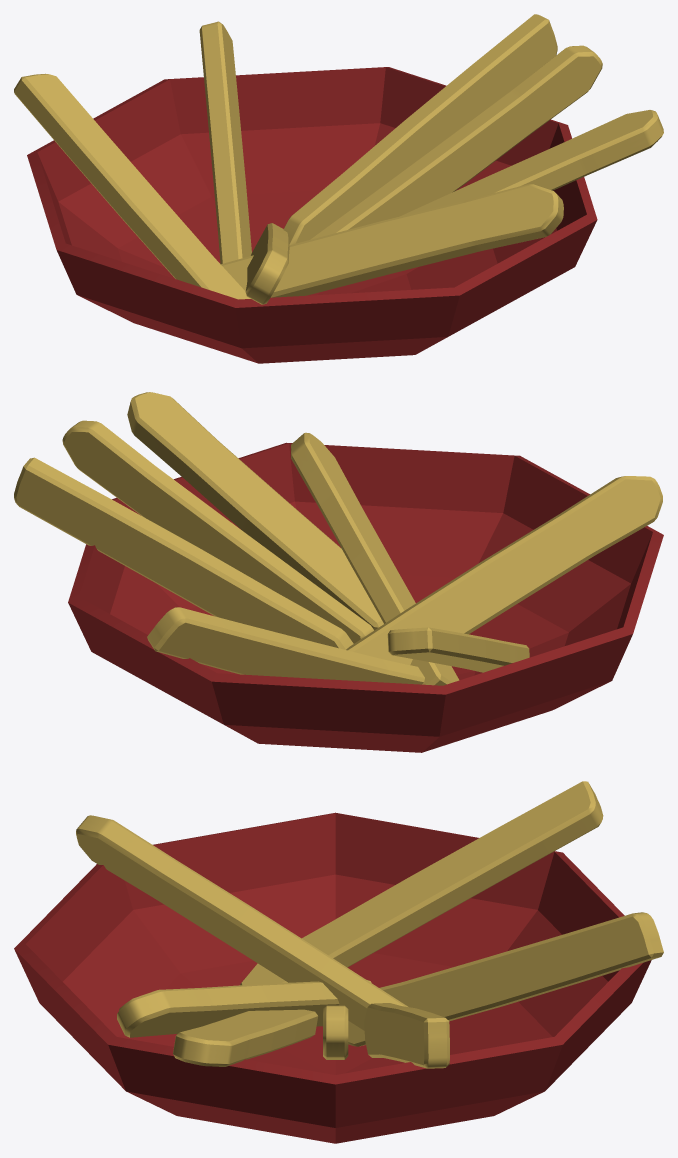
Rendered from chips.fbx.
The picture shows the model from 3 angles, top to bottom: view 1: azimuth 30°, elevation 25°; view 2: azimuth 150°, elevation 25°; view 3: azimuth 270°, elevation 25°; orthographic projection. The views are drawn at different scales.
Parts seen in each view (by area): view 1: pCube8; view 2: pCube8; view 3: pCube8.
Part boxes in pixels (box(x1,y1,x2,y2)): pCube8: box(14, 14, 663, 363); pCube8: box(14, 392, 663, 752); pCube8: box(14, 781, 663, 1143).
Bounding box in the file's own units: 11.46 × 4.09 × 10.89.
